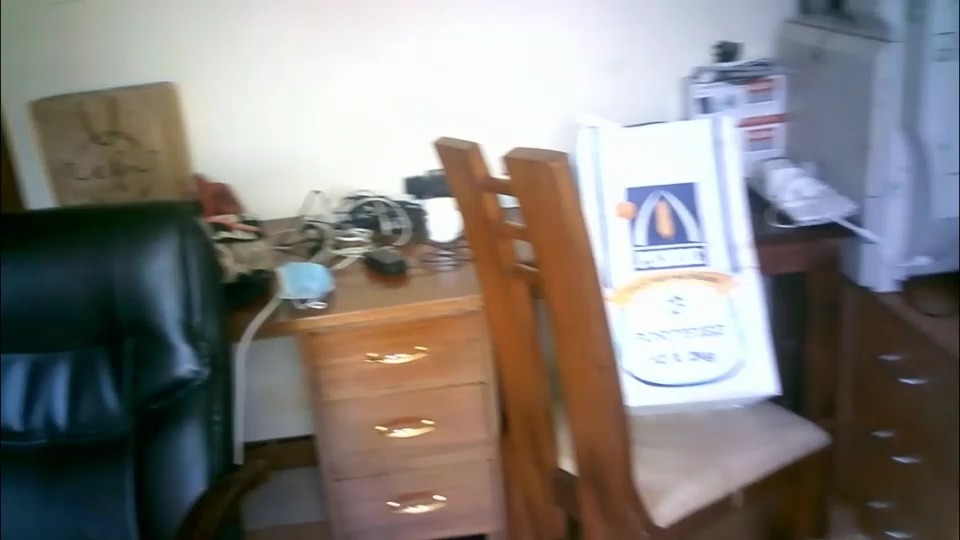wheat_flour_blue_label: (591, 117, 784, 399)
